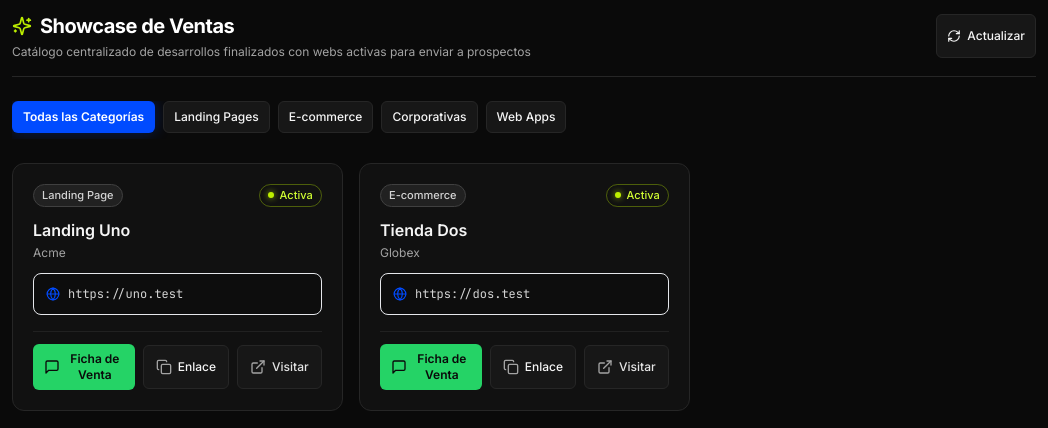
Scenario: UI — páginas restantes tras la división container/presentational › Showcase: filtra por categoría
This screenshot has width=1048, height=428.
Check: the heading "Landing Uno" is shown, box [33,220,130,240]
Step 1. Click the button "E-commerce" → (326, 117), box [278,101,373,133]
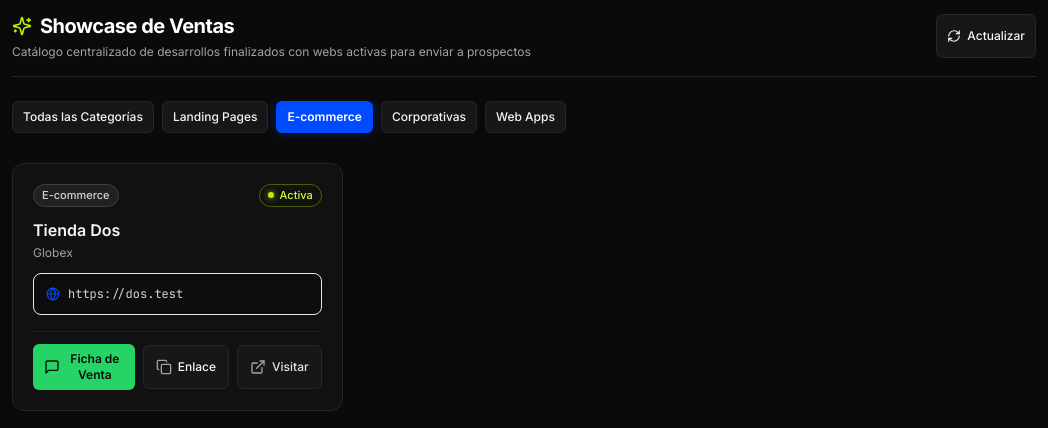
Check: the heading "Tienda Dos" is shown, box [33,220,120,240]
Check: the heading "Landing Uno" is gone
Step 2. Click the button "Web Apps" → (525, 117), box [485,101,566,133]
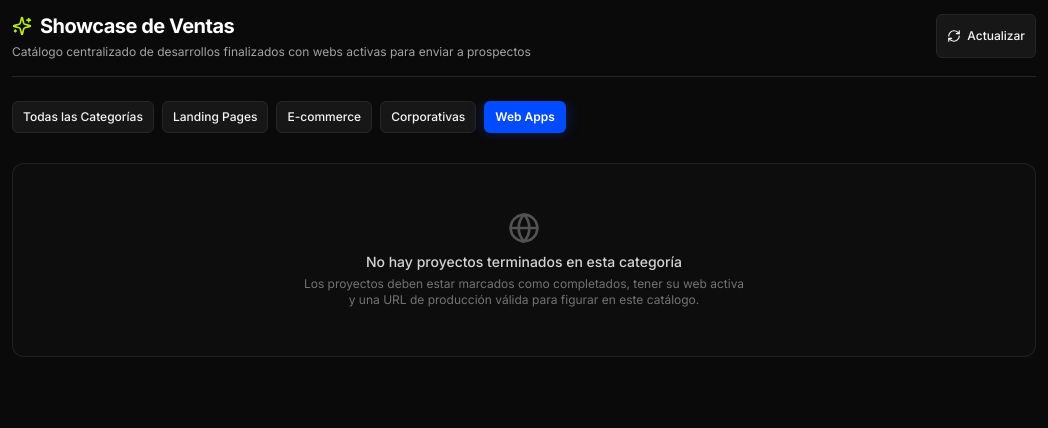
Check: the text "No hay proyectos terminados en esta categoría" is shown, box [366,253,682,270]
